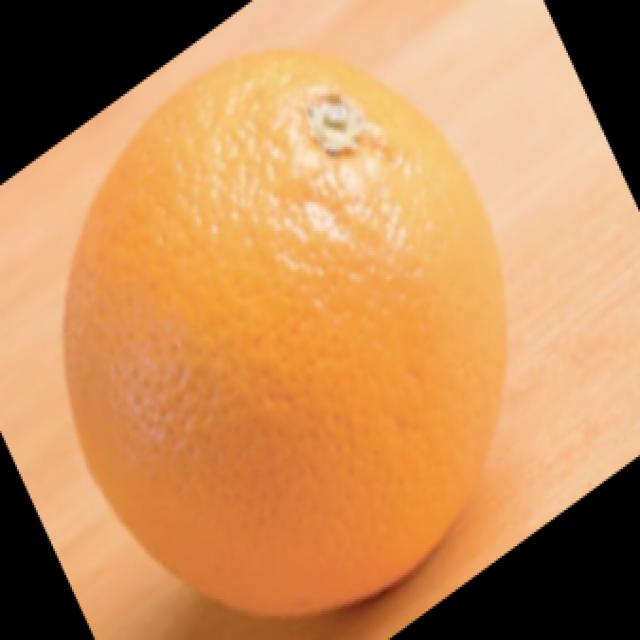fresh: (66, 43, 516, 629)
